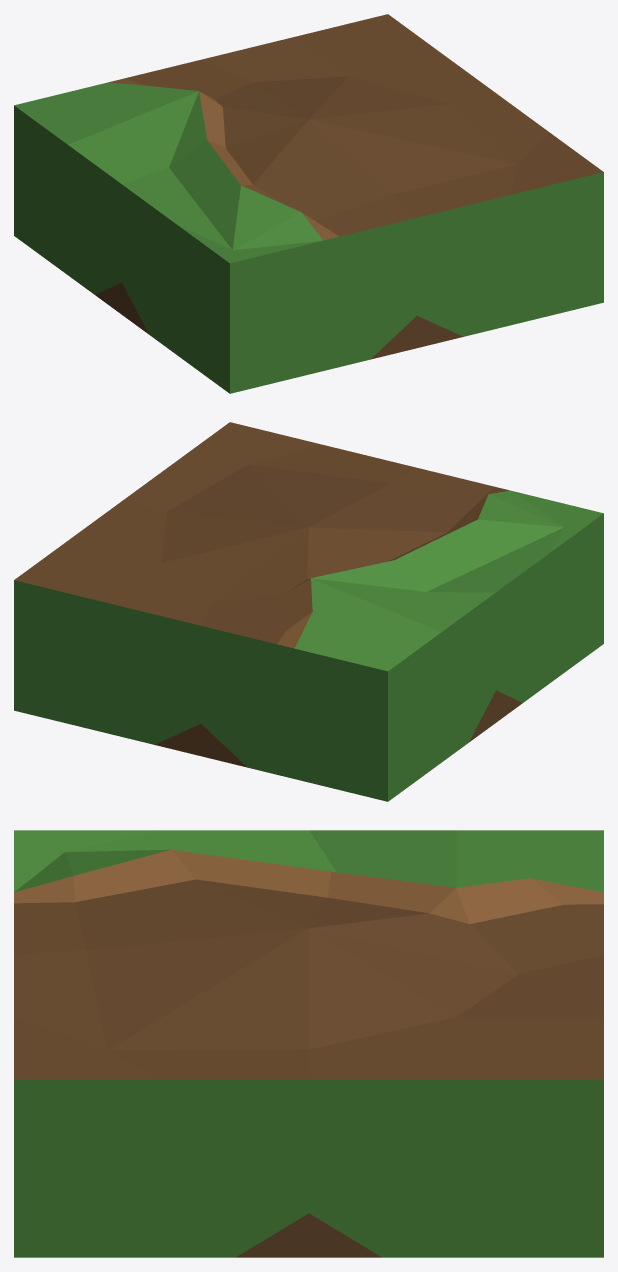
File: grass_dirt_edge_2.fbx
3 views of the same model, one above another, from view 1: azimuth 30°, elevation 25°; view 2: azimuth 150°, elevation 25°; view 3: azimuth 270°, elevation 25° (orthographic). The views are drawn at different scales.
Parts seen in each view (by area): view 1: Dirt_Grass_Edge_2; view 2: Dirt_Grass_Edge_2; view 3: Dirt_Grass_Edge_2.
Part boxes in pixels (x1,y1,x2,y2): Dirt_Grass_Edge_2: (14,14,603,393); Dirt_Grass_Edge_2: (14,422,603,801); Dirt_Grass_Edge_2: (14,830,603,1257).
Size of the model in its own units: 300 by 132 by 300.
